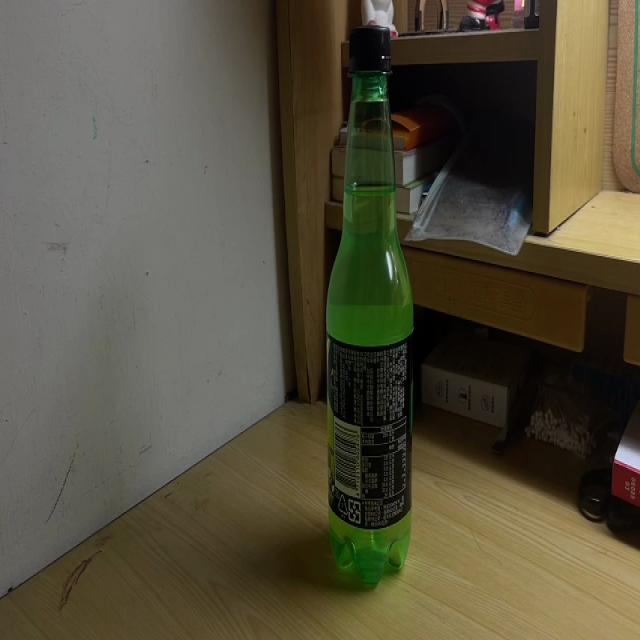Mountain-Dew: (328, 24, 410, 585)
